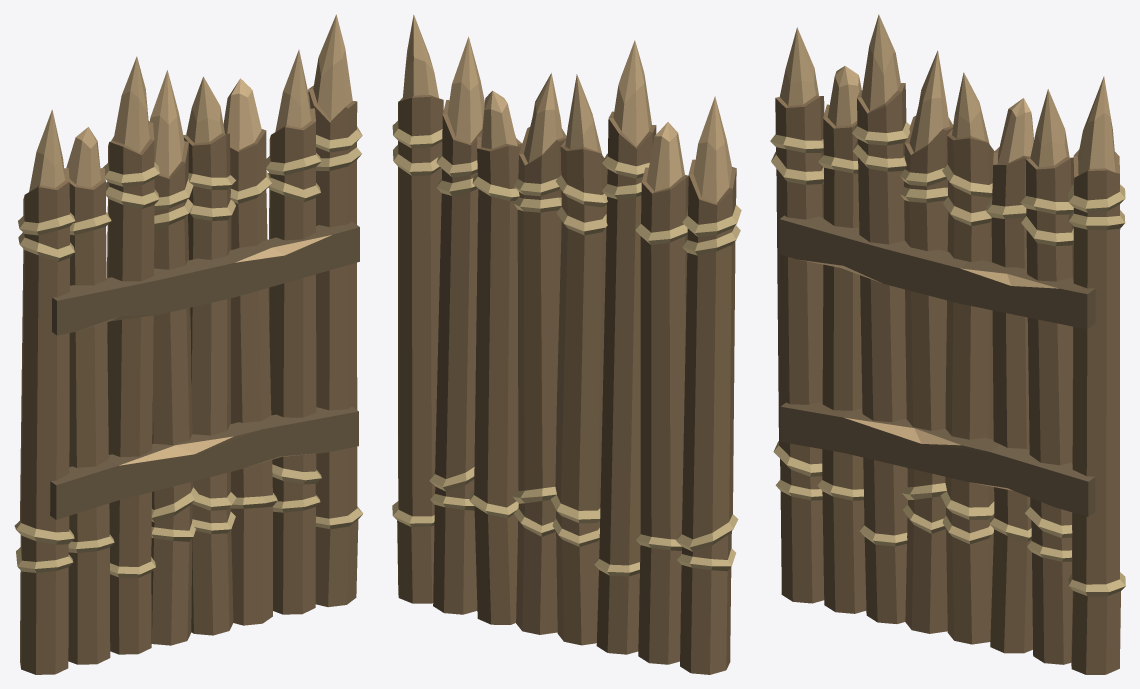
Rendered from rpgpp_ag_stockade_01e_4x6.fbx.
3 renders of one model, left to right at view 1: azimuth 30°, elevation 25°; view 2: azimuth 150°, elevation 25°; view 3: azimuth 330°, elevation 25°, orthographic.
Parts seen in each view (by area): view 1: rpgpp_ag_stockade_01e_4x6; view 2: rpgpp_ag_stockade_01e_4x6; view 3: rpgpp_ag_stockade_01e_4x6.
Boxes of the visible parts, left/top/right/bottom form: rpgpp_ag_stockade_01e_4x6: left=14, top=14, right=363, bottom=674; rpgpp_ag_stockade_01e_4x6: left=392, top=14, right=741, bottom=674; rpgpp_ag_stockade_01e_4x6: left=770, top=14, right=1125, bottom=674.
Size of the model in its own units: 4.14 by 6.92 by 0.8463.
